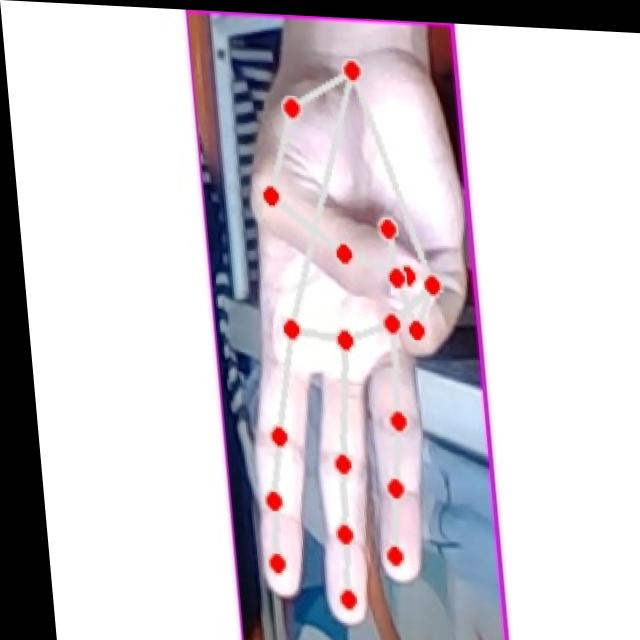W: (213, 54, 481, 632)
